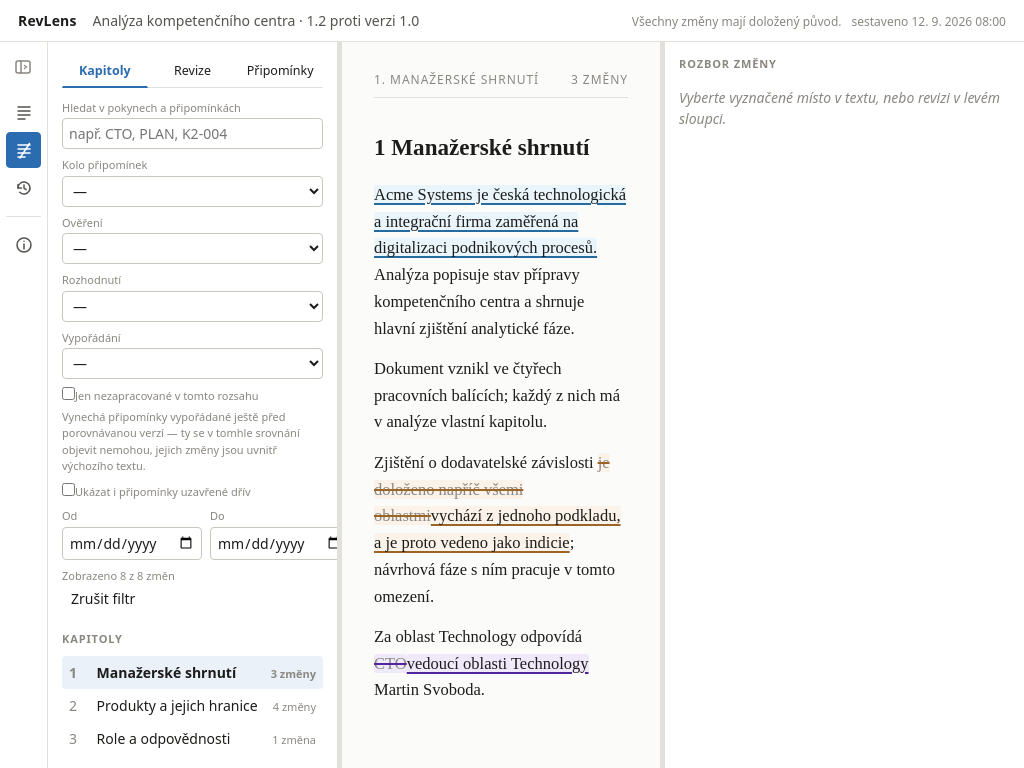
it: the mode switch › hides the deletions in clean mode and restores them in review
The width and height of the screenshot is (1024, 768).
Expected: the element showing "1 Manažerské shrnutí" is shown, [374,134,590,160]
Expected: the button with class "run--deleted" that starts with "je doloženo napříč všemi oblastmi" is shown, [374,453,610,526]
Click the button named "Čistopis". click: (24, 112)
box: [6,94,41,130]
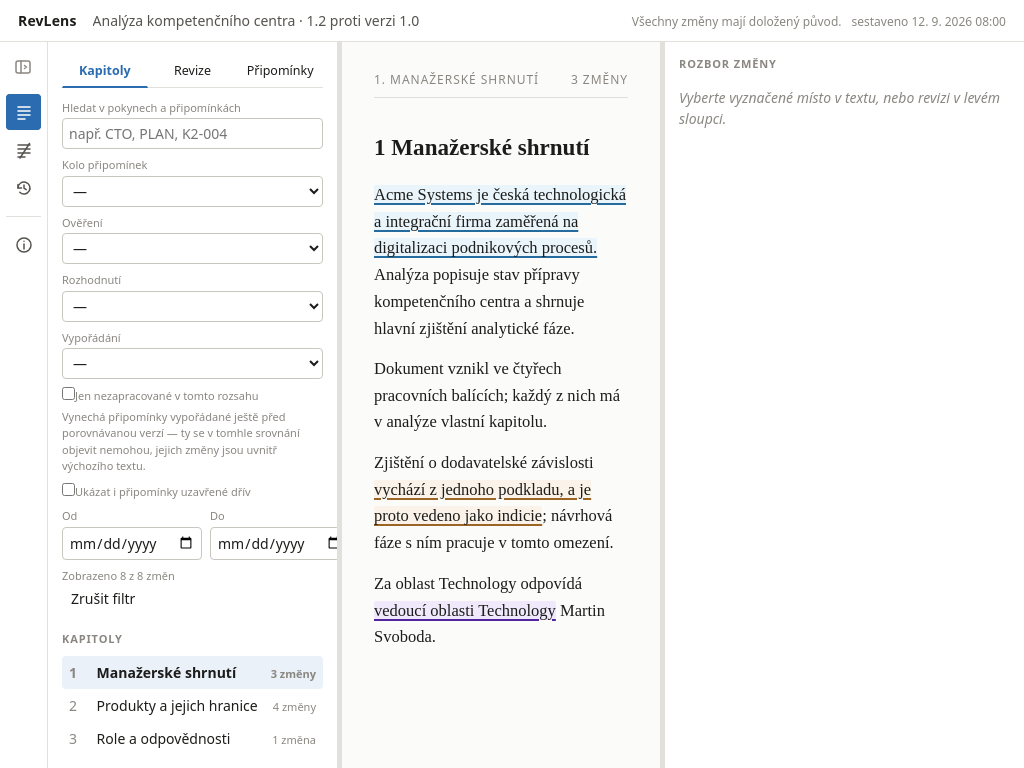
Expected: the 1st button with class "run--inserted" is shown, [374,185,626,257]
Click the button named "Původní verze". click: (24, 188)
box: [6,170,41,206]
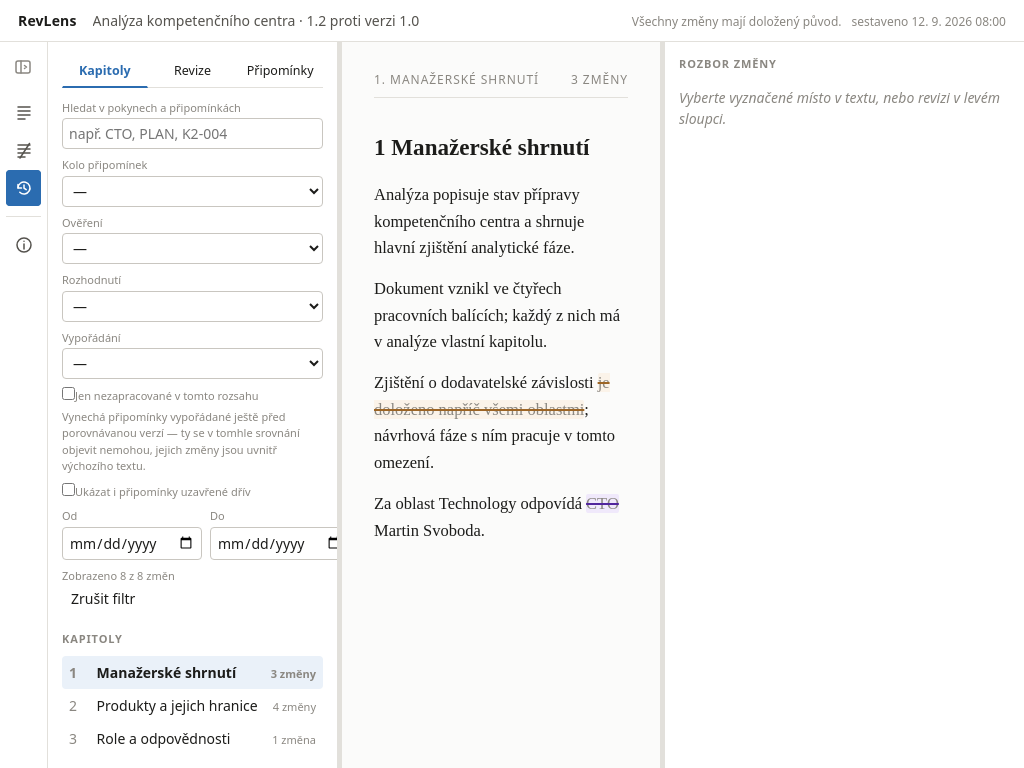
Result: the button with class "run--deleted" that starts with "je doloženo napříč všemi oblastmi" is shown at [374,373,610,419]
